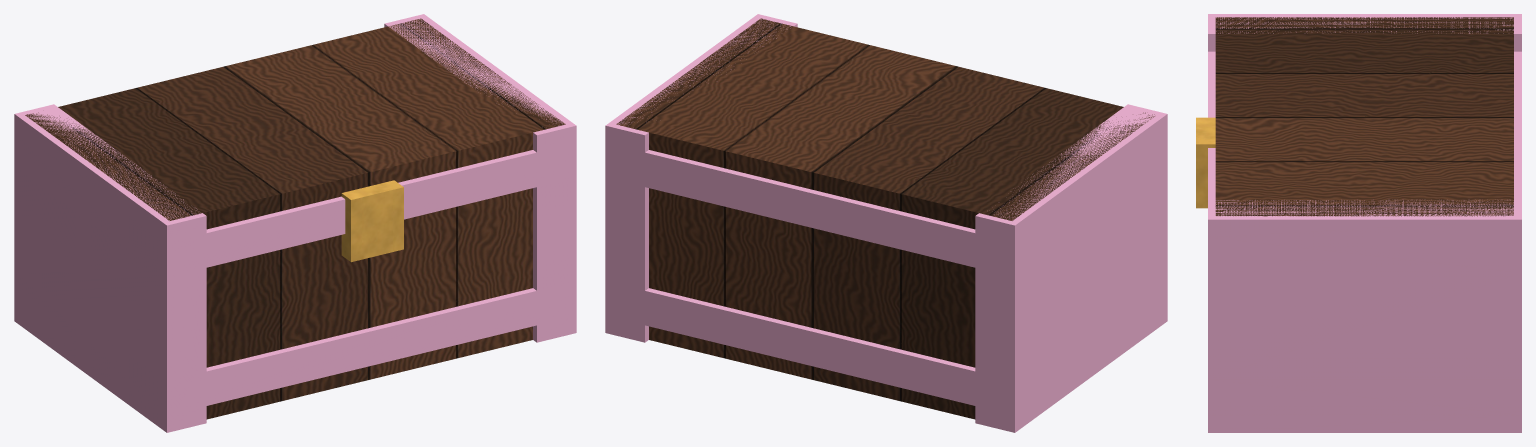
Rendered from dun_chest_pink.glb.
3 views of the same model, side by side, from view 1: azimuth 30°, elevation 25°; view 2: azimuth 150°, elevation 25°; view 3: azimuth 270°, elevation 25° (orthographic). The views are drawn at different scales.
Parts seen in each view (by area): view 1: dun_chest_pink_dwood_0, dun_chest_pink_satin_pink_0, dun_chest_pink_gold_0; view 2: dun_chest_pink_dwood_0, dun_chest_pink_satin_pink_0; view 3: dun_chest_pink_satin_pink_0, dun_chest_pink_dwood_0, dun_chest_pink_gold_0.
Part boxes in pixels (x1,y1,x2,y2): dun_chest_pink_dwood_0: (25, 18, 565, 419); dun_chest_pink_satin_pink_0: (14, 14, 576, 432); dun_chest_pink_gold_0: (341, 180, 403, 262); dun_chest_pink_dwood_0: (616, 18, 1154, 419); dun_chest_pink_satin_pink_0: (605, 14, 1167, 432); dun_chest_pink_satin_pink_0: (1208, 14, 1521, 432); dun_chest_pink_dwood_0: (1215, 17, 1513, 216); dun_chest_pink_gold_0: (1196, 117, 1215, 208).
Size of the model in its own units: 1.24 by 0.6 by 0.83.
Materials: 3 (2 with a texture image).
